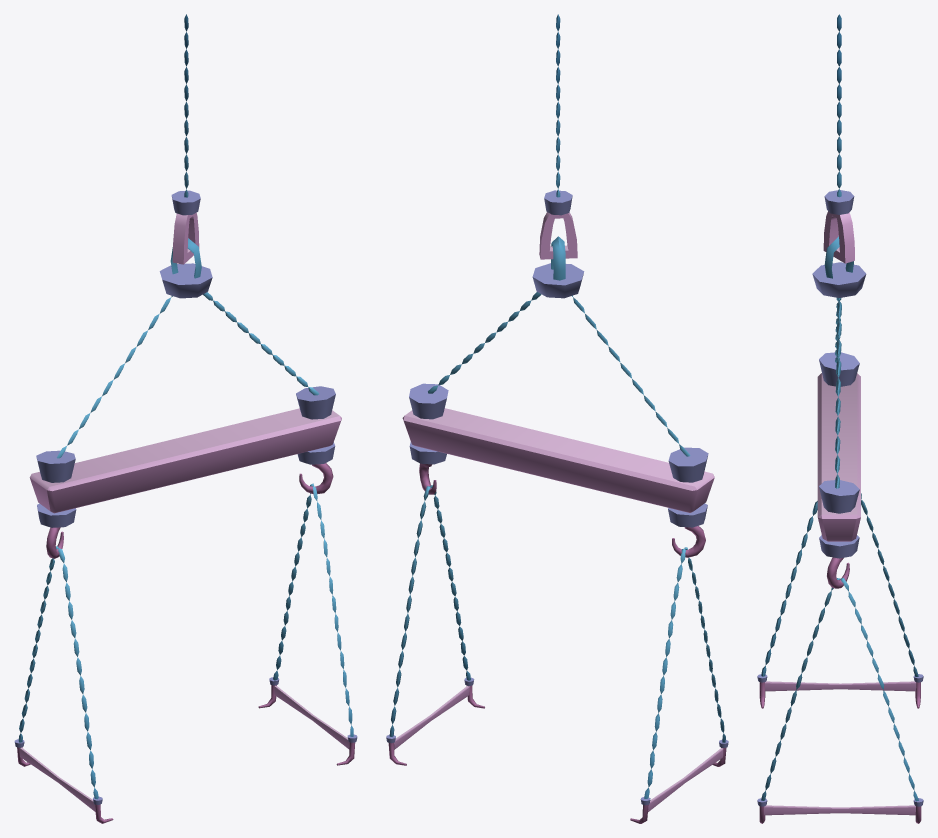
The model's file is prop-crane_robotfactory.glb.
3 views of the same model, side by side, from view 1: azimuth 30°, elevation 25°; view 2: azimuth 150°, elevation 25°; view 3: azimuth 270°, elevation 25° (orthographic).
Visible parts, largest first — view 1: prop-crane_robotfactory; view 2: prop-crane_robotfactory; view 3: prop-crane_robotfactory.
Boxes of the visible parts, x1,y1,x2,y2 form: prop-crane_robotfactory: (14, 14, 357, 823); prop-crane_robotfactory: (386, 14, 728, 823); prop-crane_robotfactory: (757, 14, 923, 823).
Bounding box in the file's own units: 10.55 × 25.62 × 5.15.
